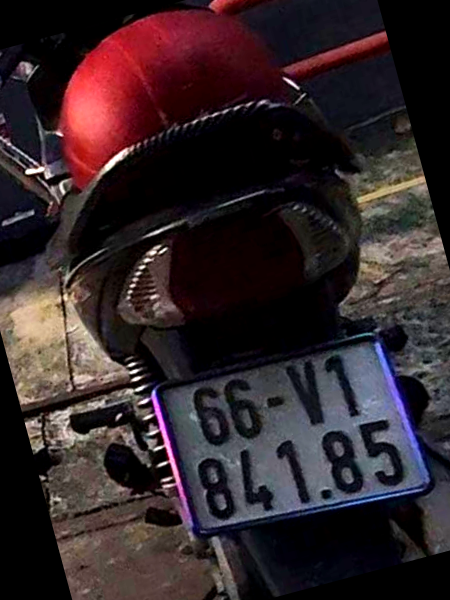number: (154, 333, 435, 534)
